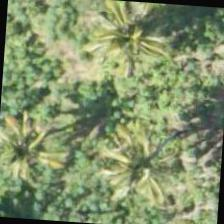Kelapa_Sawit: (91, 126, 188, 222), (96, 11, 192, 107), (0, 97, 66, 192)
